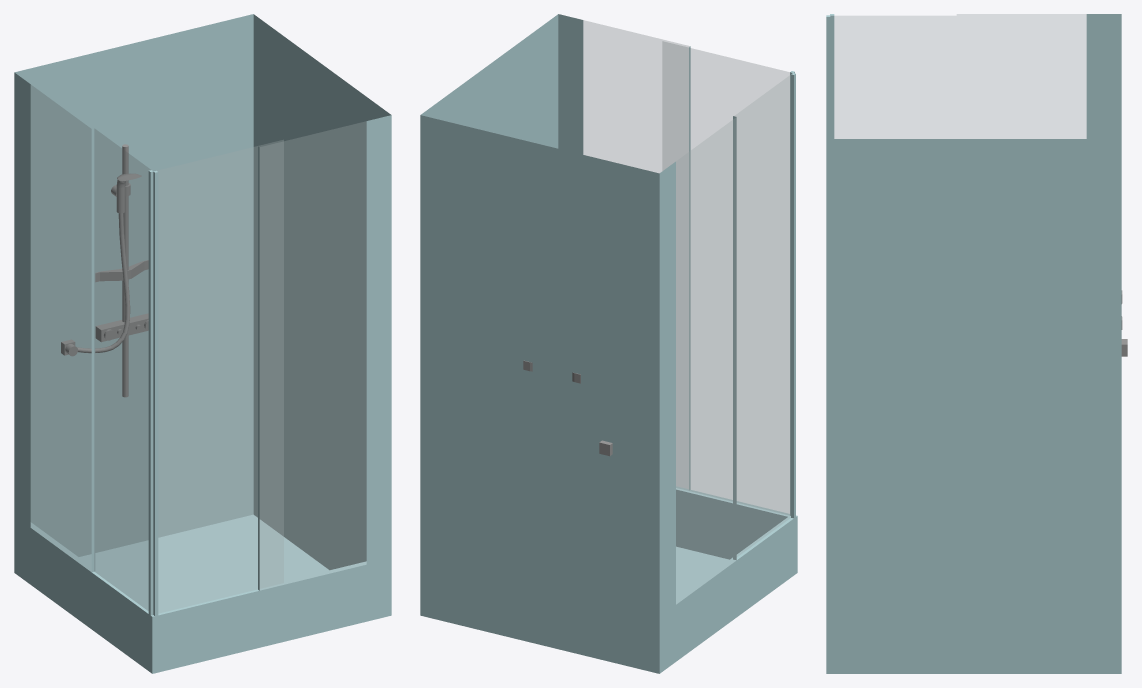
The model's file is Shower.glb.
The picture shows the model from 3 angles, left to right: view 1: azimuth 30°, elevation 25°; view 2: azimuth 150°, elevation 25°; view 3: azimuth 270°, elevation 25°; orthographic projection. The views are drawn at different scales.
Parts seen in each view (by area): view 1: Cube; view 2: Cube; view 3: Cube.
Boxes of the visible parts, <box> form: Cube: <box>14,14,391,673</box>; Cube: <box>420,14,797,673</box>; Cube: <box>826,14,1127,673</box>.
Size of the model in its own units: 2 by 4 by 2.04.
